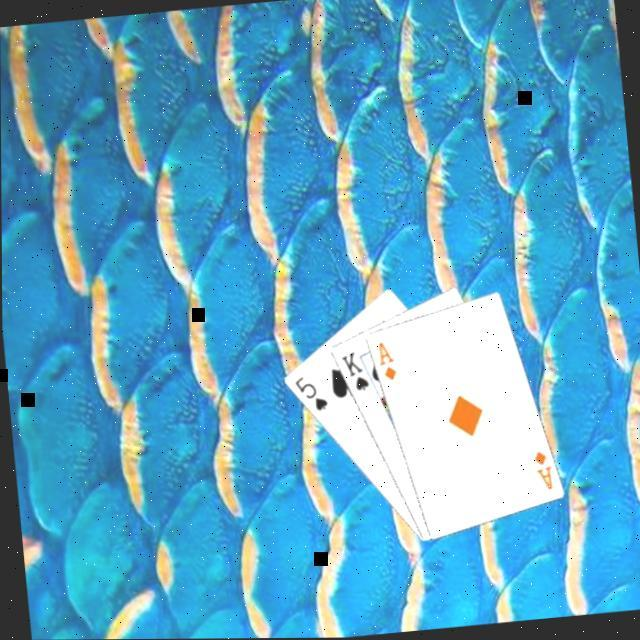5S: (292, 372, 332, 417)
AD: (374, 339, 401, 386), (532, 448, 556, 496)
KS: (337, 349, 373, 398)
